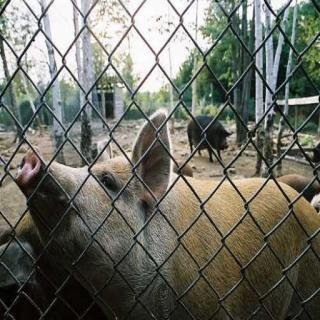Pig: (4, 138, 320, 310), (167, 112, 232, 164)
